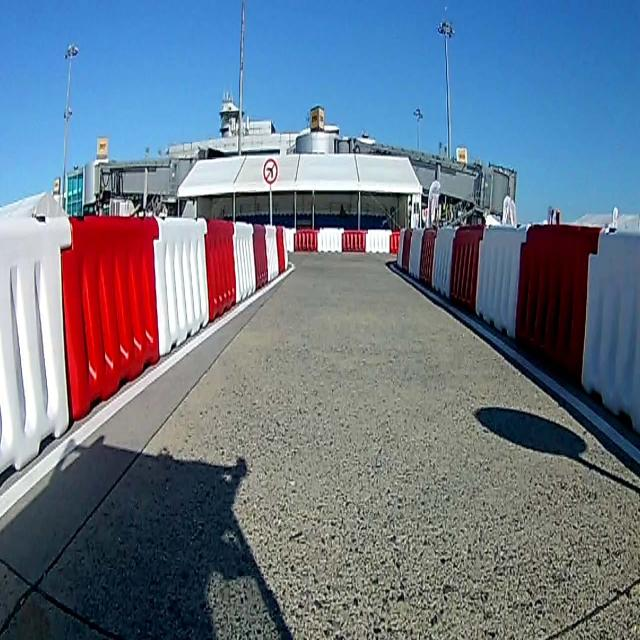soladonulmez: (263, 156, 279, 184)
